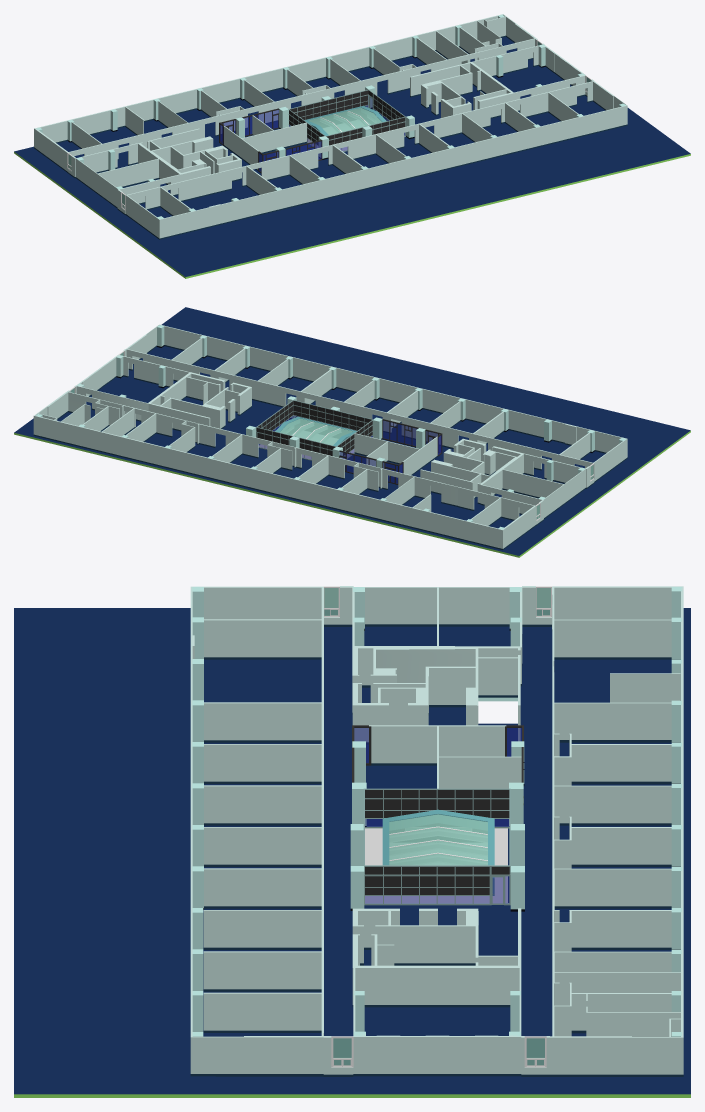
File: 4F_Floor.fbx
3 views of the same model, one above another, from view 1: azimuth 30°, elevation 25°; view 2: azimuth 150°, elevation 25°; view 3: azimuth 270°, elevation 25° (orthographic). The views are drawn at different scales.
Parts seen in each view (by area): view 1: 4_Floor, Room_05, Room_01, Room_02, Glass_Frame, 4F_EV_02, Room_04, 4F_Pillar, 4F_EV_01, Room_03, Roof, Class_Room (+5 smaller); view 2: 4_Floor, Room_01, Room_05, Room_02, Glass_Frame, 4F_EV_02, 4F_Pillar, Room_04, 4F_EV_01, Room_03, Class_Room, Roof (+5 smaller); view 3: 4_Floor, Room_01, Room_05, 4F_EV_02, 4F_Pillar, 4F_EV_01, Glass_Frame, Room_03, Room_04, Room_02, Roof, Center_Pillar_4F (+6 smaller).
Boxes of the visible parts, x1,y1,x2,y2 form: 4_Floor: (14,37,690,278); Room_05: (125,81,627,239); Room_01: (34,14,536,172); Room_02: (75,143,181,208); Glass_Frame: (288,89,405,151); 4F_EV_02: (424,62,514,118); Room_04: (472,44,585,111); 4F_Pillar: (36,14,625,219); 4F_EV_01: (139,140,241,181); Room_03: (224,115,306,170); Roof: (304,105,386,135); Class_Room: (219,108,322,172); 4_Floor: (14,307,690,557); Room_01: (33,391,536,549); Room_05: (126,324,627,482); Room_02: (480,453,585,518); Glass_Frame: (256,400,373,460); 4F_EV_02: (147,372,251,427); 4F_Pillar: (36,325,626,529); Room_04: (76,354,189,421); 4F_EV_01: (443,438,522,504); Room_03: (354,433,437,475); Class_Room: (339,419,442,484); Roof: (275,416,356,446); 4_Floor: (14,608,690,1097); Room_01: (549,586,683,1076); Room_05: (190,586,323,1076); 4F_EV_02: (352,908,521,1007); 4F_Pillar: (192,586,681,1036); 4F_EV_01: (352,647,520,744); Glass_Frame: (363,788,510,905); Room_03: (369,725,521,788); Room_04: (353,968,521,1076); Room_02: (352,587,522,686); Roof: (382,809,494,895); Center_Pillar_4F: (350,741,524,911).
Size of the model in its own units: 85 by 3.51 by 50.
